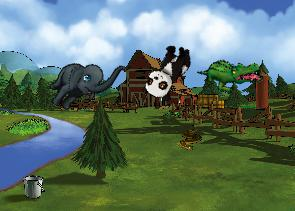crocodile: (196, 46, 265, 102)
elephant: (42, 38, 126, 127)
panda: (139, 38, 196, 105)
